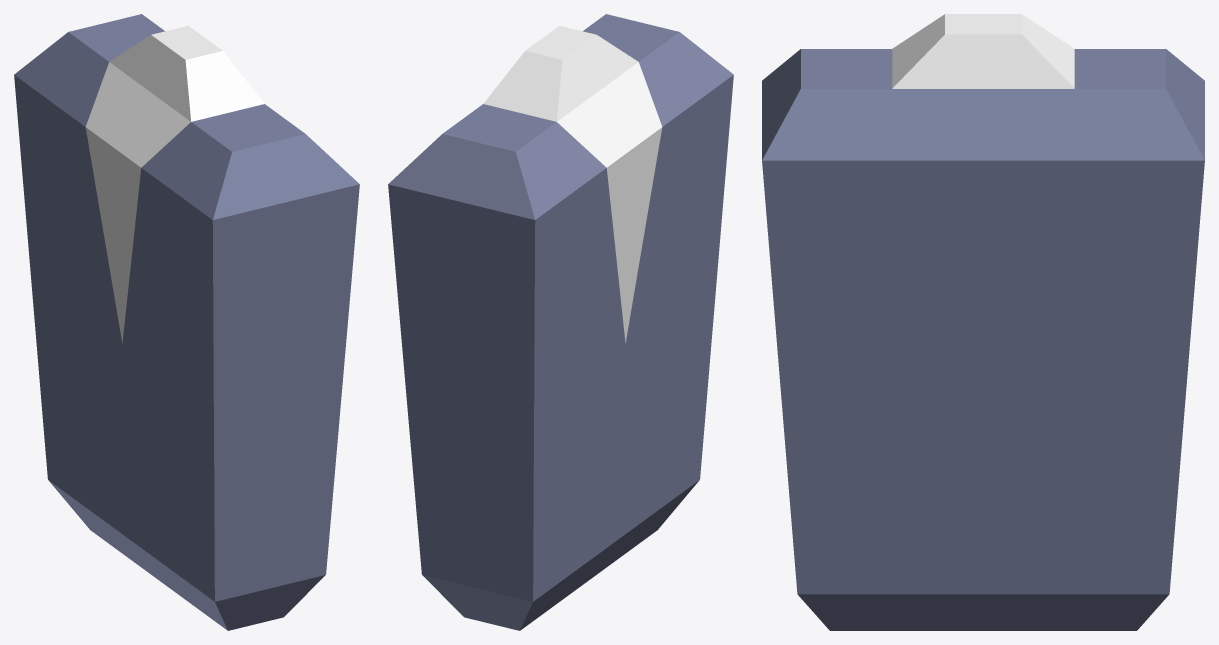
The model's file is Bandit3Torso.fbx.
3 renders of one model, left to right at view 1: azimuth 30°, elevation 25°; view 2: azimuth 150°, elevation 25°; view 3: azimuth 270°, elevation 25°, orthographic. The views are drawn at different scales.
Parts seen in each view (by area): view 1: Bandit3Torso; view 2: Bandit3Torso; view 3: Bandit3Torso.
Boxes of the visible parts, x1,y1,x2,y2 form: Bandit3Torso: (14, 14, 359, 630); Bandit3Torso: (388, 14, 733, 630); Bandit3Torso: (762, 14, 1204, 630).
Bounding box in the file's own units: 0.2075 × 0.7157 × 0.4856.
